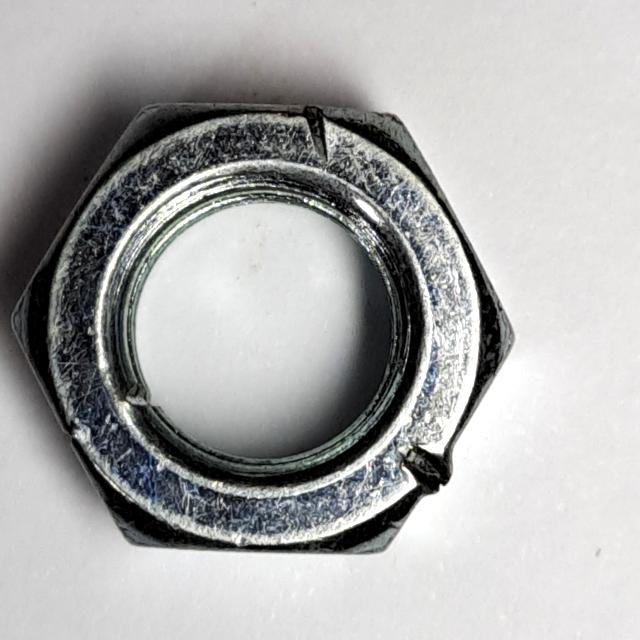Scratches: (1, 87, 541, 570)
